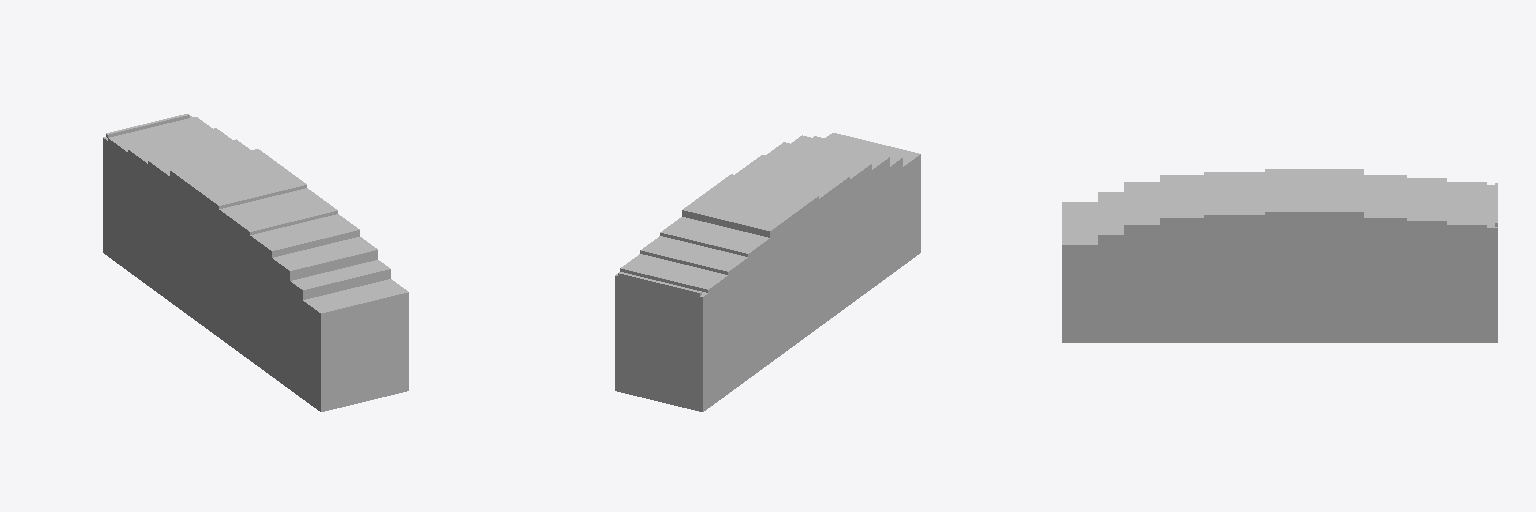
File: Road1.obj
The picture shows the model from 3 angles: view 1: azimuth 30°, elevation 25°; view 2: azimuth 150°, elevation 25°; view 3: azimuth 270°, elevation 25°; orthographic projection.
Visible parts, largest first — view 1: object 1; view 2: object 1; view 3: object 1.
Part boxes in pixels (x1,y1,x2,y2): object 1: (103,114,408,411); object 1: (615,133,920,411); object 1: (1062,169,1497,342).
Bounding box in the file's own units: 2.8 × 4 × 12.